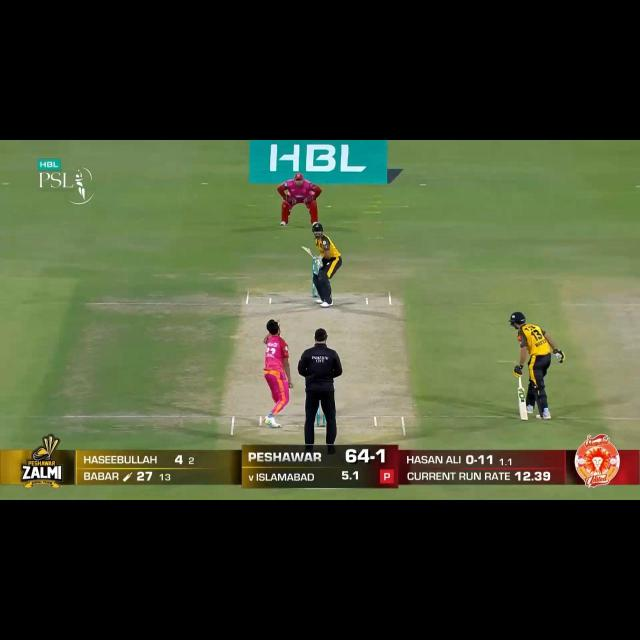bat: (515, 384, 531, 422), (300, 245, 314, 259)
toe: (517, 410, 529, 420), (299, 245, 309, 251)
